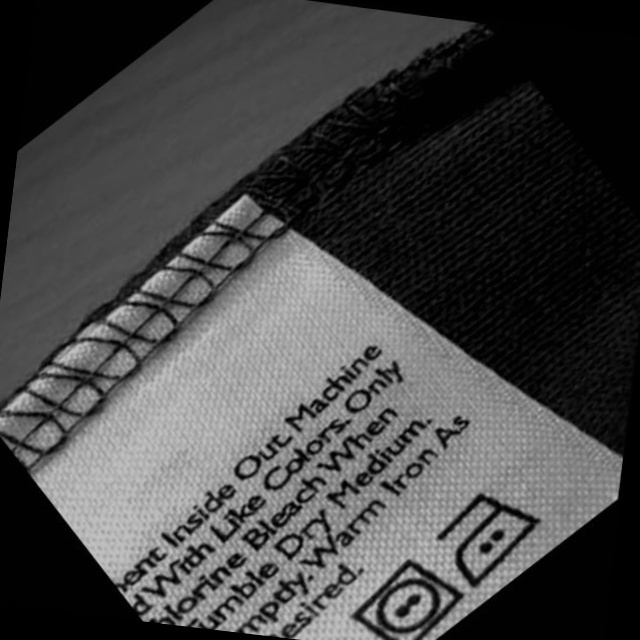iron_medium: (434, 488, 550, 592)
tumble_dry_medium: (351, 555, 470, 640)
